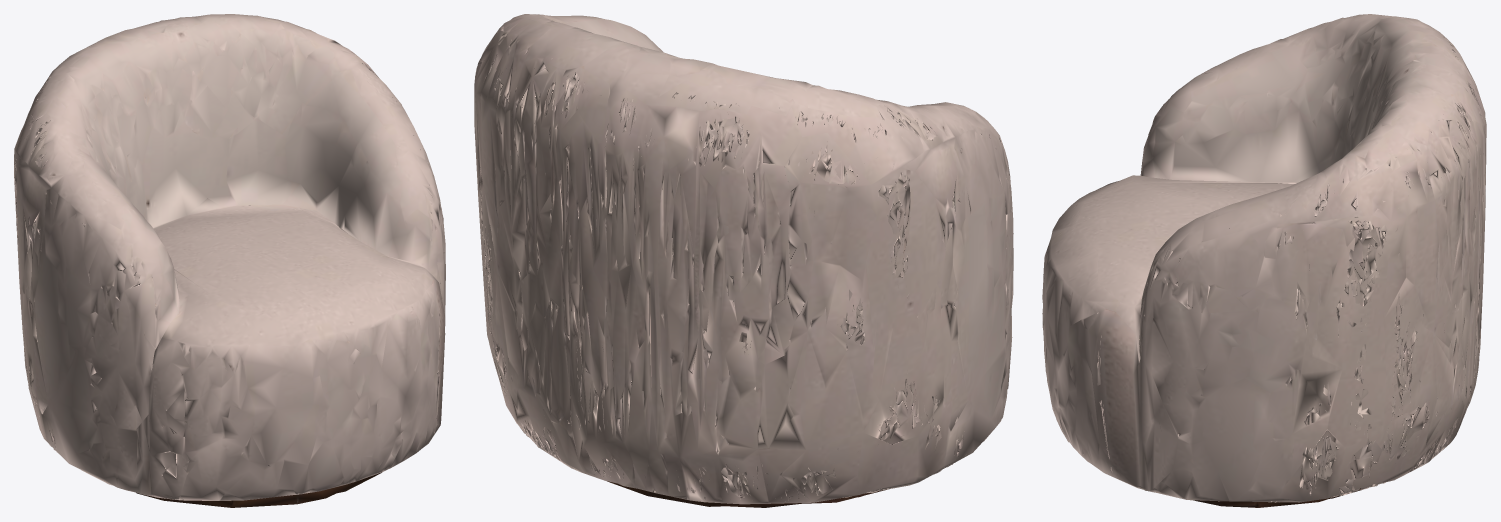
The model's file is armchair.glb.
3 views of the same model, side by side, from view 1: azimuth 30°, elevation 25°; view 2: azimuth 150°, elevation 25°; view 3: azimuth 270°, elevation 25° (orthographic). The views are drawn at different scales.
Visible parts, largest first — view 1: armchair-normalized; view 2: armchair-normalized; view 3: armchair-normalized.
Part boxes in pixels (x1,y1,x2,y2): armchair-normalized: [14, 14, 445, 507]; armchair-normalized: [474, 14, 1013, 507]; armchair-normalized: [1042, 14, 1486, 507].
Size of the model in its own units: 0.85 by 0.78 by 0.84.
Materials: 1 (1 with a texture image).
